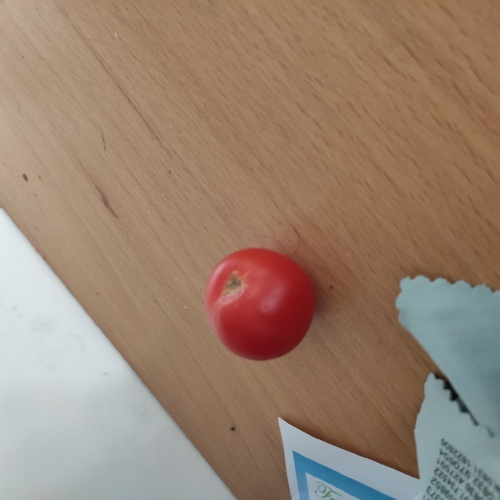pomodoro: (198, 247, 327, 362)
